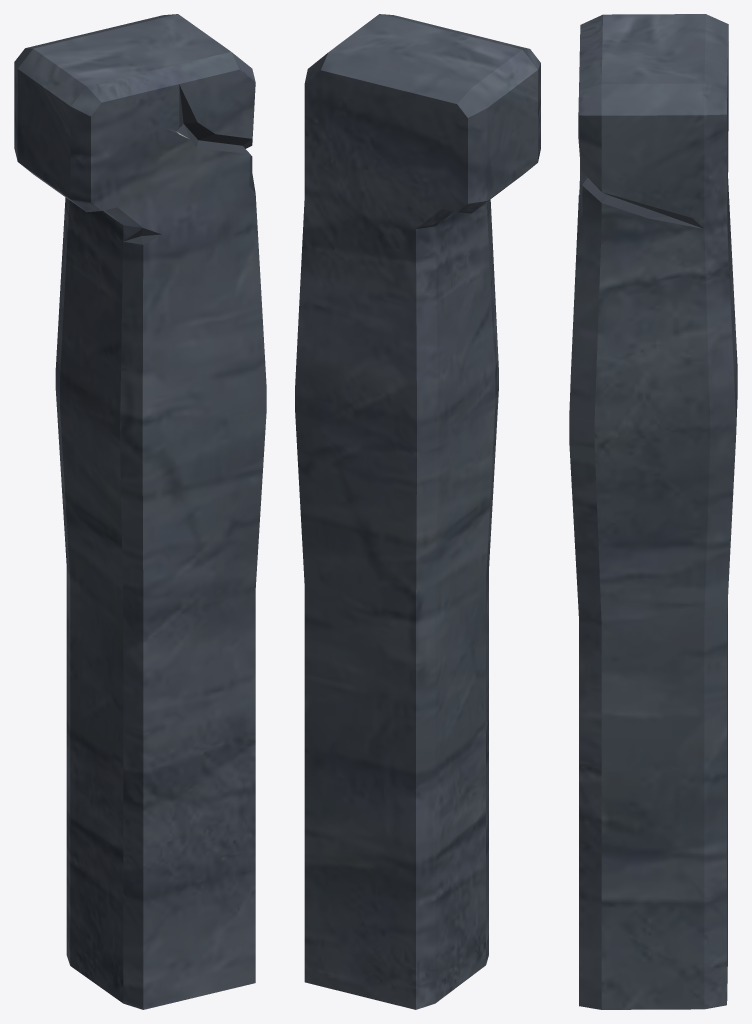
Rendered from pm-stand-column-05.glb.
The picture shows the model from 3 angles, left to right: view 1: azimuth 30°, elevation 25°; view 2: azimuth 150°, elevation 25°; view 3: azimuth 270°, elevation 25°; orthographic projection.
Parts seen in each view (by area): view 1: StandColumn05; view 2: StandColumn05; view 3: StandColumn05.
Part boxes in pixels (bbox=[...]): StandColumn05: bbox=[14, 14, 266, 1009]; StandColumn05: bbox=[295, 14, 540, 1009]; StandColumn05: bbox=[569, 14, 737, 1009].
Size of what is drawn, in the model's own units: 2.62 by 12.3 by 2.05.
1 material, 1 textured.
